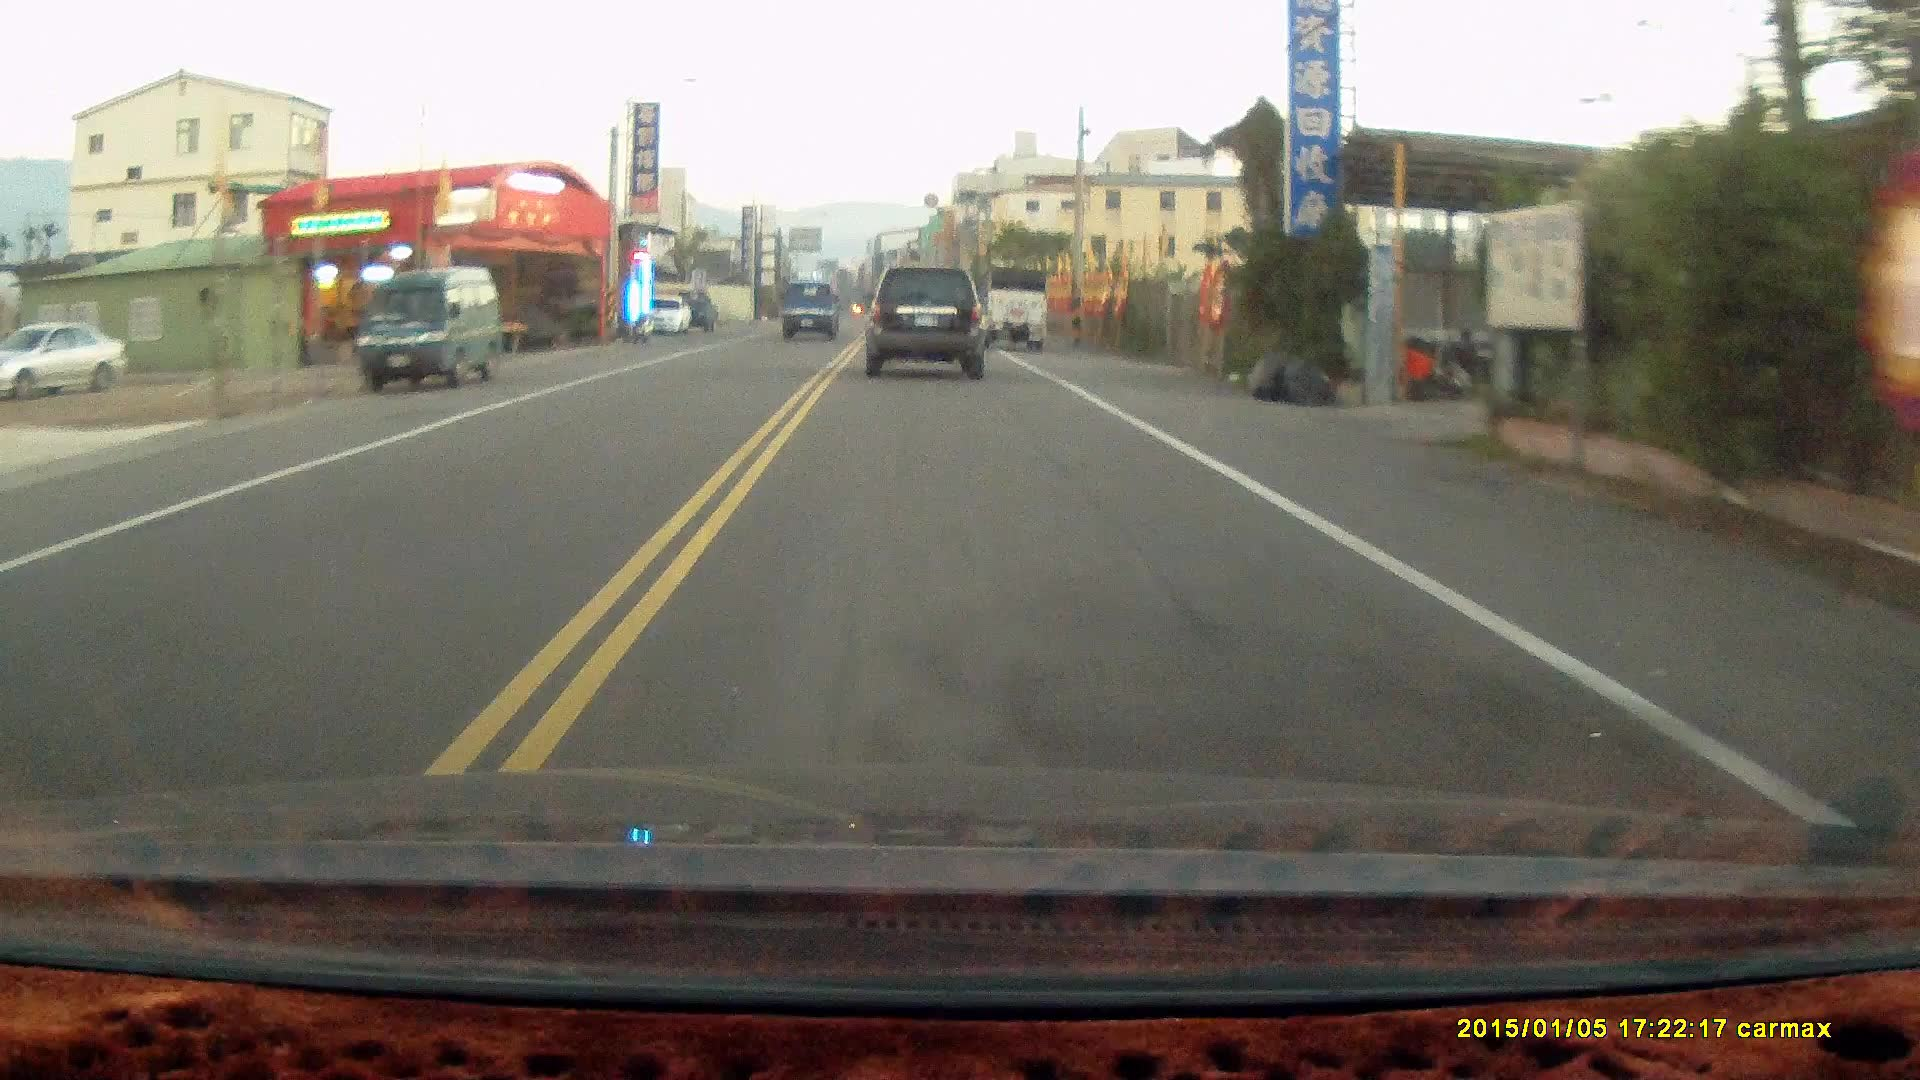vehicle: (355, 264, 508, 394), (866, 265, 986, 380), (0, 320, 125, 400), (965, 270, 1052, 356), (781, 284, 841, 345)
